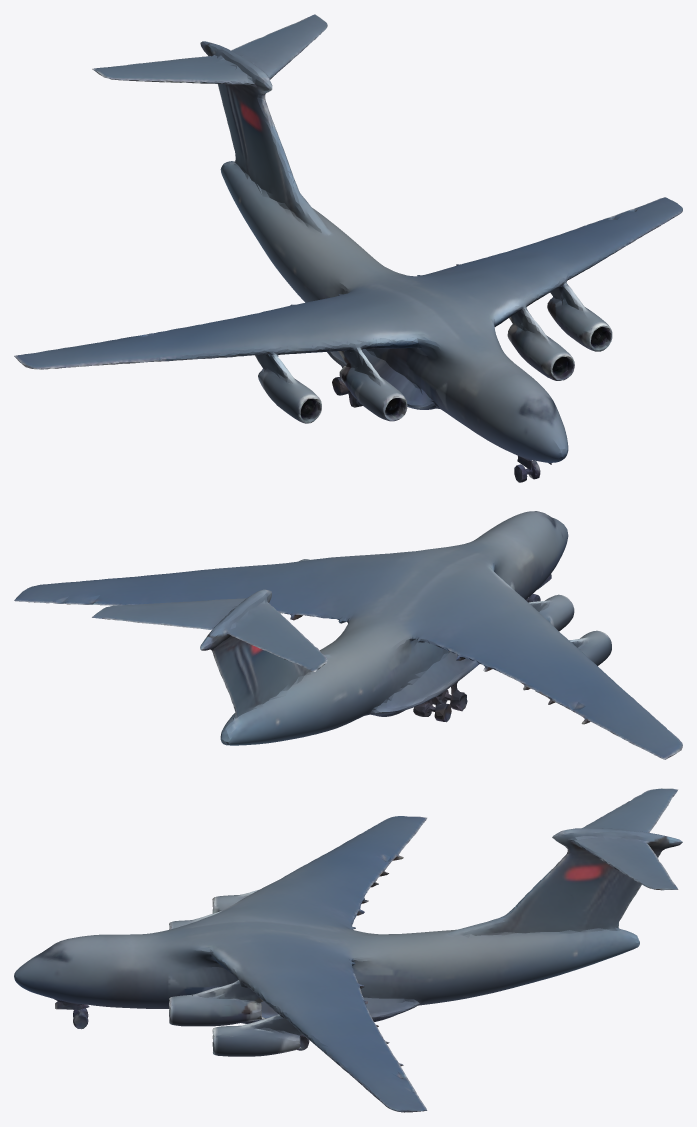
File: Y-20_Kunpeng_AI_Rodin_before_x90_z90.glb
The picture shows the model from 3 angles, top to bottom: view 1: azimuth 30°, elevation 25°; view 2: azimuth 150°, elevation 25°; view 3: azimuth 270°, elevation 25°; orthographic projection. The views are drawn at different scales.
Parts seen in each view (by area): view 1: Y-20_Kunpeng; view 2: Y-20_Kunpeng; view 3: Y-20_Kunpeng.
Part boxes in pixels (box(x1,y1,x2,y2)): Y-20_Kunpeng: box(14, 14, 682, 482); Y-20_Kunpeng: box(14, 511, 682, 759); Y-20_Kunpeng: box(14, 788, 682, 1112).
Bounding box in the file's own units: 1.9 × 0.5929 × 1.82.
Materials: 1 (1 with a texture image).
